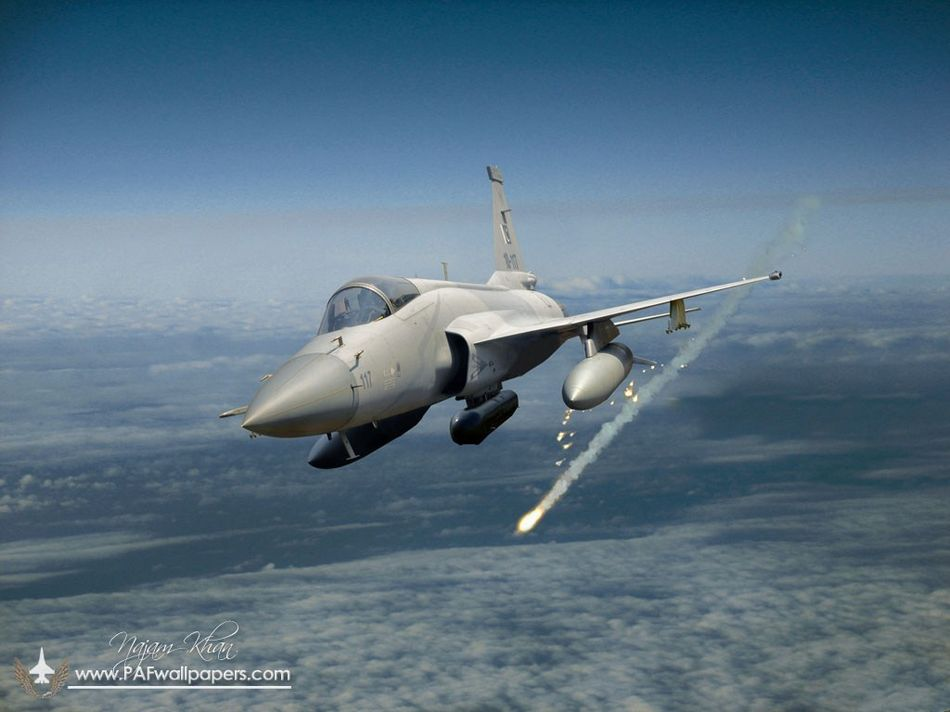airplane: (205, 162, 787, 482)
